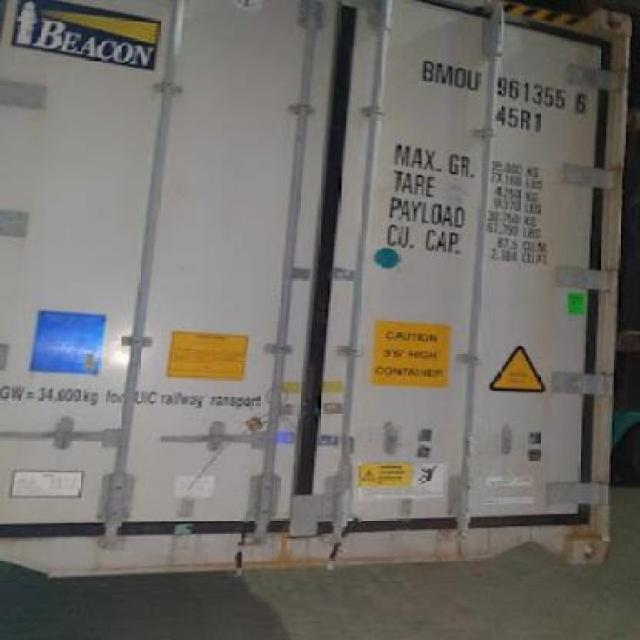ISO: (494, 102, 544, 134)
container_number: (420, 56, 587, 116)
